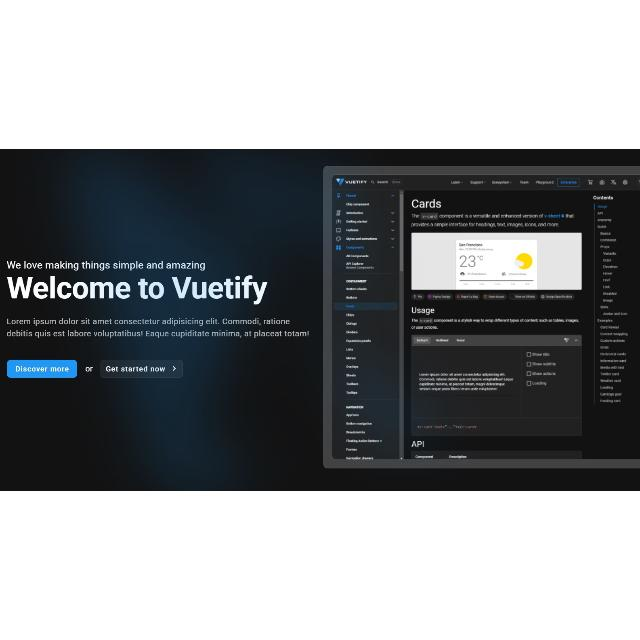QLabel: (5, 276, 268, 306), (6, 317, 310, 339), (5, 260, 206, 272), (104, 365, 166, 373), (15, 366, 70, 374), (85, 366, 94, 372)
VBtn: (100, 359, 184, 378), (7, 359, 78, 378)
VIcon: (172, 366, 175, 370)
VImg: (322, 164, 640, 470)
